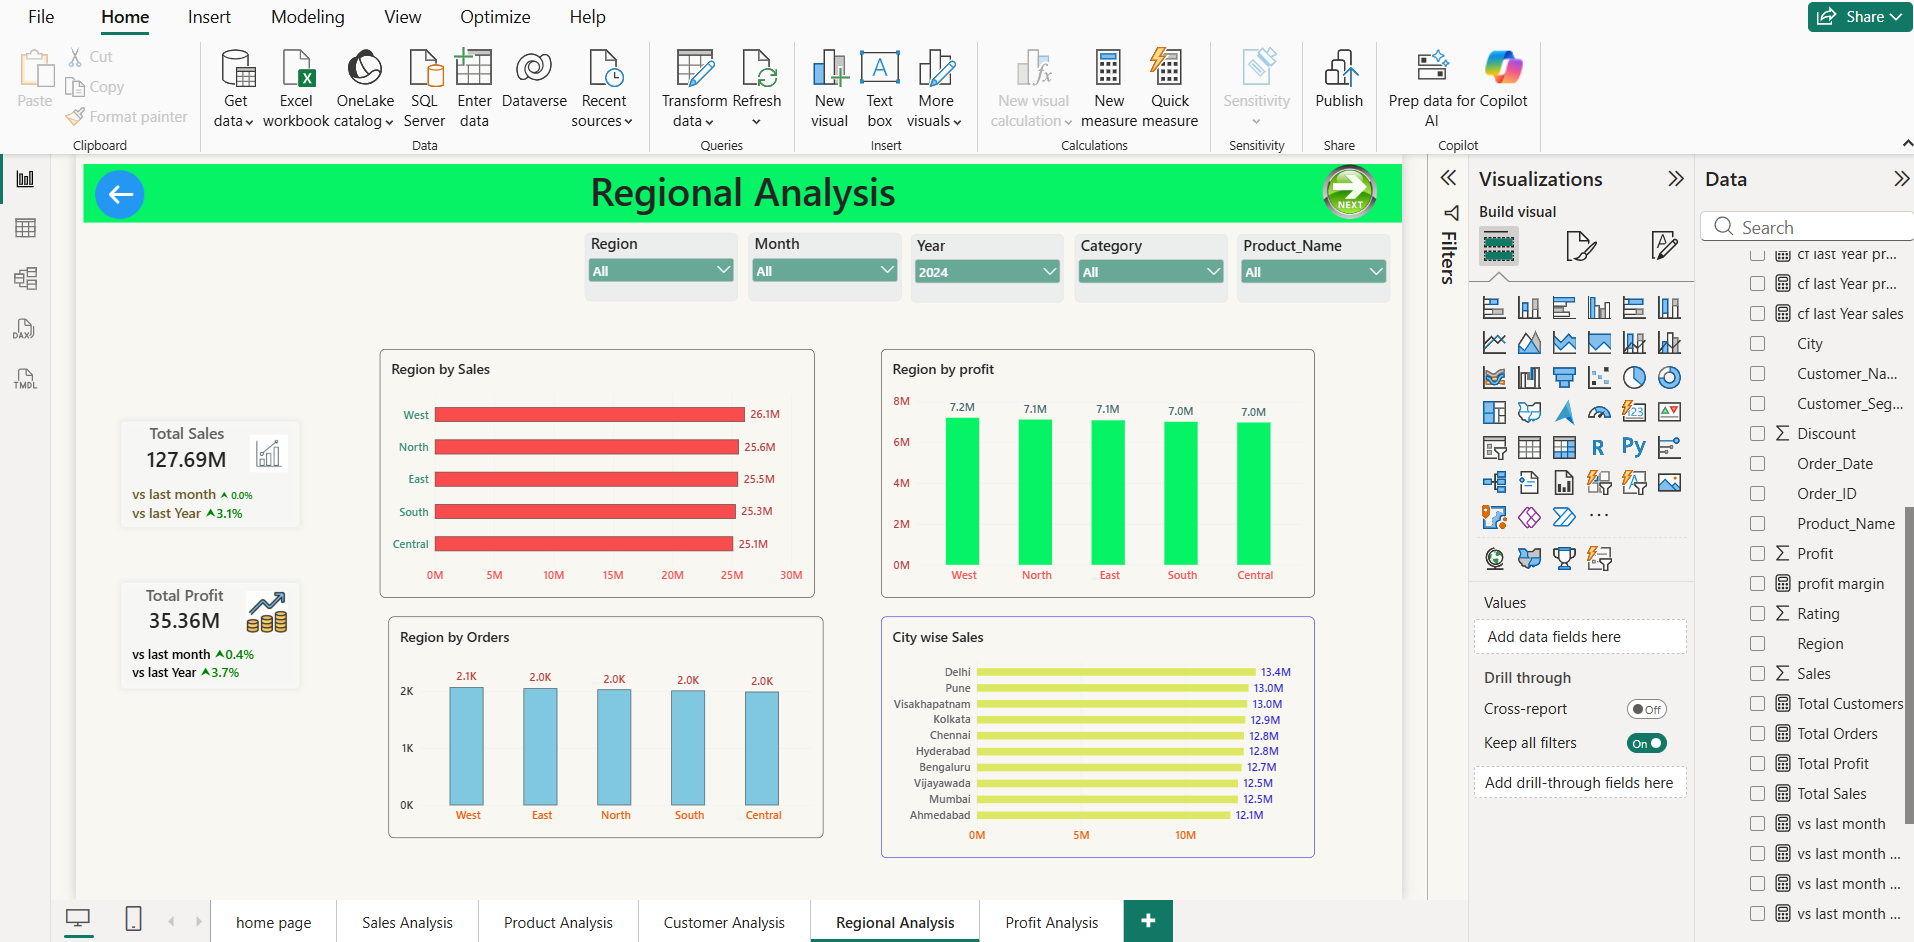

The page's visual inventory and layout, read from the dashboard file:
{"tool":"powerbi","page":{"name":"Regional Analysis","canvas":[1920,1080],"ordinal":4},"visuals":[{"type":"textbox","title":"Regional Analysis","box":[10.9,14.5,1909.2,85.1],"z":0},{"type":"slicer","fields":{"Values":["date table.Month"]},"box":[972.7,114,221.9,99],"z":1000},{"type":"slicer","fields":{"Values":["date table.Year"]},"box":[1208.9,115.8,221.9,99],"z":2000},{"type":"slicer","fields":{"Values":["Table1.Region"]},"box":[736.5,114,221.9,99],"z":3000},{"type":"slicer","fields":{"Values":["Table1.Category"]},"box":[1445,115.8,221.9,99],"z":4000},{"type":"slicer","fields":{"Values":["Table1.Product_Name"]},"box":[1681.2,115.8,221.9,99],"z":5000},{"type":"clusteredBarChart","title":"Region by Sales","fields":{"Category":["Table1.Region"],"Y":["Table1.Total Sales"]},"box":[439.7,282.3,629.8,360.2],"z":6000},{"type":"clusteredColumnChart","title":"  Region by profit","fields":{"Category":["Table1.Region"],"Y":["Table1.Total Profit"]},"box":[1165,282,627.8,360.2],"z":7000},{"type":"clusteredColumnChart","title":" Region by Orders","fields":{"Category":["Table1.Region"],"Y":["Table1.Total Orders"]},"box":[452.8,669,629.8,321.1],"z":8000},{"type":"clusteredBarChart","title":"City wise Sales","fields":{"Category":["Table1.City"],"Y":["Table1.Total Sales"]},"box":[1165,669,627.8,349.9],"z":9000},{"type":"cardVisual","fields":{"Data":["Table1.Total Sales"]},"box":[53.5,376.7,280.5,175],"z":10000},{"type":"cardVisual","fields":{"Data":["Table1.Total Profit"]},"box":[53.5,609.3,280.5,175],"z":11000},{"type":"image","box":[10.3,22.6,105,70.6],"z":12000},{"type":"image","box":[1791.6,5.4,105,109.1],"z":13000}]}

Visuals, with their boxes on the page's 1920x1080 design canvas (x1, y1, x2, y2). These are canvas units, not pixel positions in the 1914x942 screenshot, which may show the page scaled, cropped or inside an application window:
"Regional Analysis" textbox: (x1=11, y1=14, x2=1920, y2=100)
slicer - date table.Month: (x1=973, y1=114, x2=1195, y2=213)
slicer - date table.Year: (x1=1209, y1=116, x2=1431, y2=215)
slicer - Table1.Region: (x1=736, y1=114, x2=958, y2=213)
slicer - Table1.Category: (x1=1445, y1=116, x2=1667, y2=215)
slicer - Table1.Product_Name: (x1=1681, y1=116, x2=1903, y2=215)
"Region by Sales" clusteredBarChart: (x1=440, y1=282, x2=1070, y2=642)
"  Region by profit" clusteredColumnChart: (x1=1165, y1=282, x2=1793, y2=642)
" Region by Orders" clusteredColumnChart: (x1=453, y1=669, x2=1083, y2=990)
"City wise Sales" clusteredBarChart: (x1=1165, y1=669, x2=1793, y2=1019)
cardVisual - Table1.Total Sales: (x1=54, y1=377, x2=334, y2=552)
cardVisual - Table1.Total Profit: (x1=54, y1=609, x2=334, y2=784)
image: (x1=10, y1=23, x2=115, y2=93)
image: (x1=1792, y1=5, x2=1897, y2=114)
